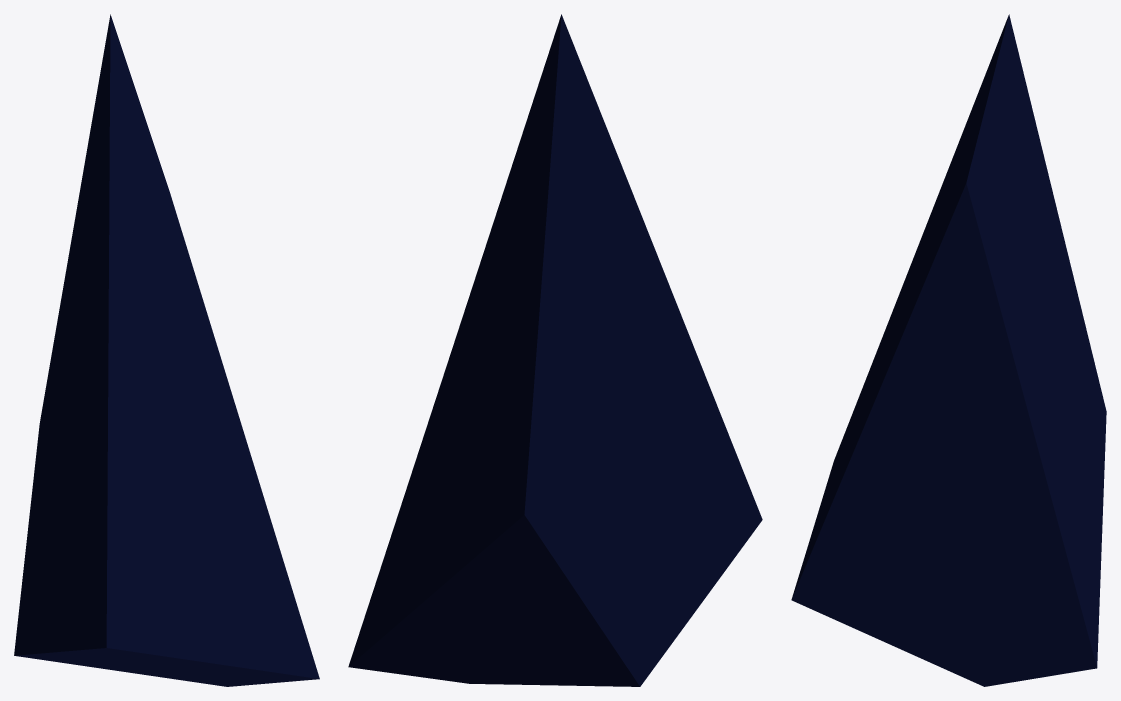
The model's file is crystal1.gltf.
3 renders of one model, left to right at view 1: azimuth 30°, elevation 25°; view 2: azimuth 150°, elevation 25°; view 3: azimuth 270°, elevation 25°, orthographic. The views are drawn at different scales.
Visible parts, largest first — view 1: Cube; view 2: Cube; view 3: Cube.
Boxes of the visible parts, box(x1,y1,x2,y2) form: Cube: box(14, 14, 319, 686); Cube: box(348, 14, 762, 686); Cube: box(791, 14, 1106, 686).
Bounding box in the file's own units: 5.39 × 13.65 × 6.22.
